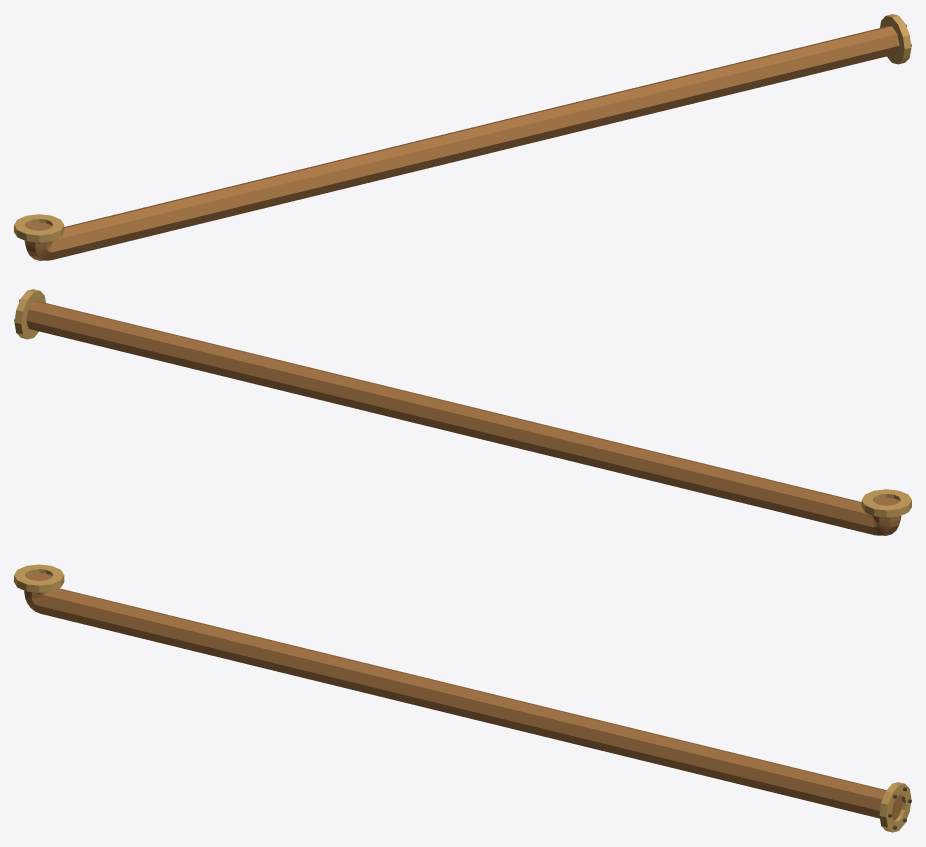
File: pipe_run_10.glb
The picture shows the model from 3 angles, top to bottom: view 1: azimuth 30°, elevation 25°; view 2: azimuth 150°, elevation 25°; view 3: azimuth 330°, elevation 25°; orthographic projection.
Parts seen in each view (by area): view 1: Swept_pipe, End_0_Flange, End_1_Flange; view 2: Swept_pipe, End_0_Flange, End_1_Flange; view 3: Swept_pipe, End_0_Flange, End_1_Flange.
Part boxes in pixels (left/top/right/bottom): Swept_pipe: left=24, top=26, right=899, bottom=260; End_0_Flange: left=14, top=214, right=64, bottom=242; End_1_Flange: left=880, top=14, right=911, bottom=64; Swept_pipe: left=26, top=301, right=901, bottom=535; End_0_Flange: left=861, top=489, right=911, bottom=517; End_1_Flange: left=14, top=289, right=45, bottom=339; Swept_pipe: left=24, top=572, right=902, bottom=820; End_0_Flange: left=14, top=564, right=64, bottom=592; End_1_Flange: left=879, top=782, right=911, bottom=832.
Bounding box in the file's own units: 7.02 × 0.3506 × 0.3465.
